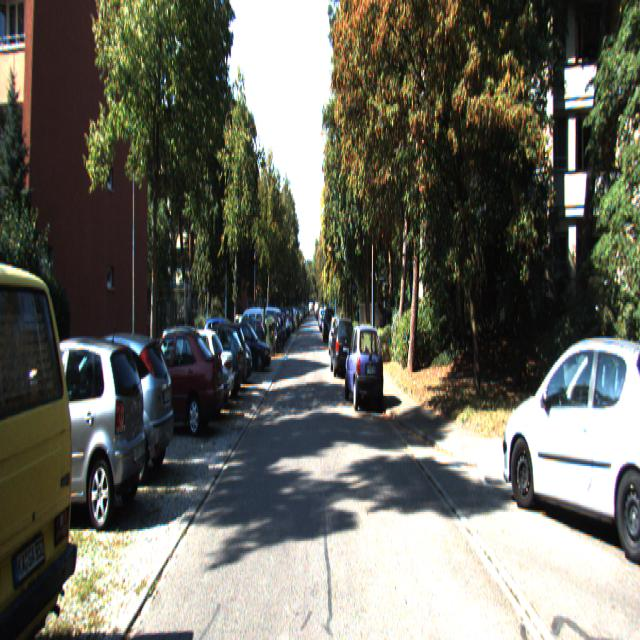Car: (502, 322, 639, 560), (0, 238, 81, 639), (0, 331, 149, 535), (40, 327, 175, 489), (126, 325, 224, 436), (163, 327, 235, 414), (344, 322, 384, 414), (224, 322, 271, 376), (233, 306, 265, 360), (329, 318, 356, 380)
